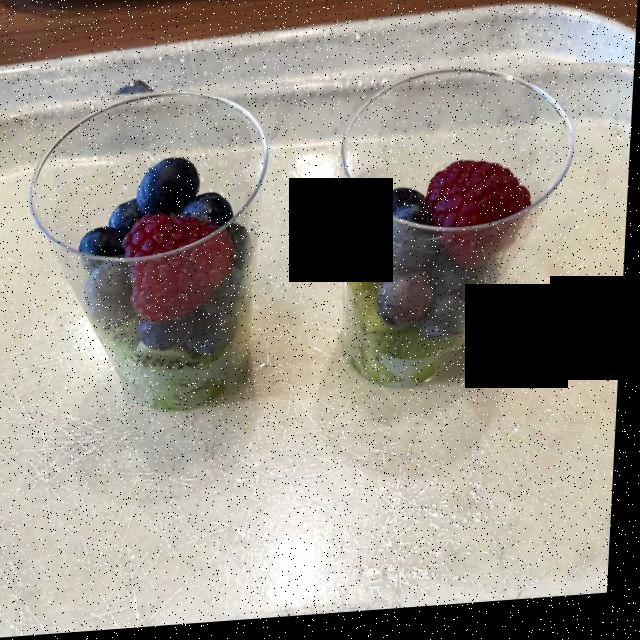fruit-salad: (61, 136, 556, 415)
raspberries: (121, 211, 240, 321), (426, 154, 535, 272)
